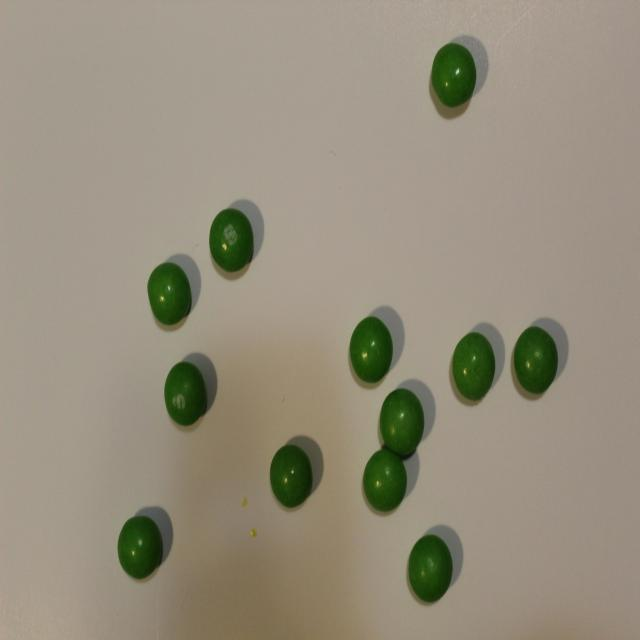smartie: (380, 388, 425, 455), (515, 326, 559, 394), (453, 332, 496, 401), (409, 536, 453, 603), (432, 41, 477, 106), (350, 316, 393, 382), (117, 516, 162, 579), (209, 207, 253, 271), (147, 262, 191, 325), (363, 449, 407, 512), (270, 445, 313, 508), (164, 362, 206, 426)
